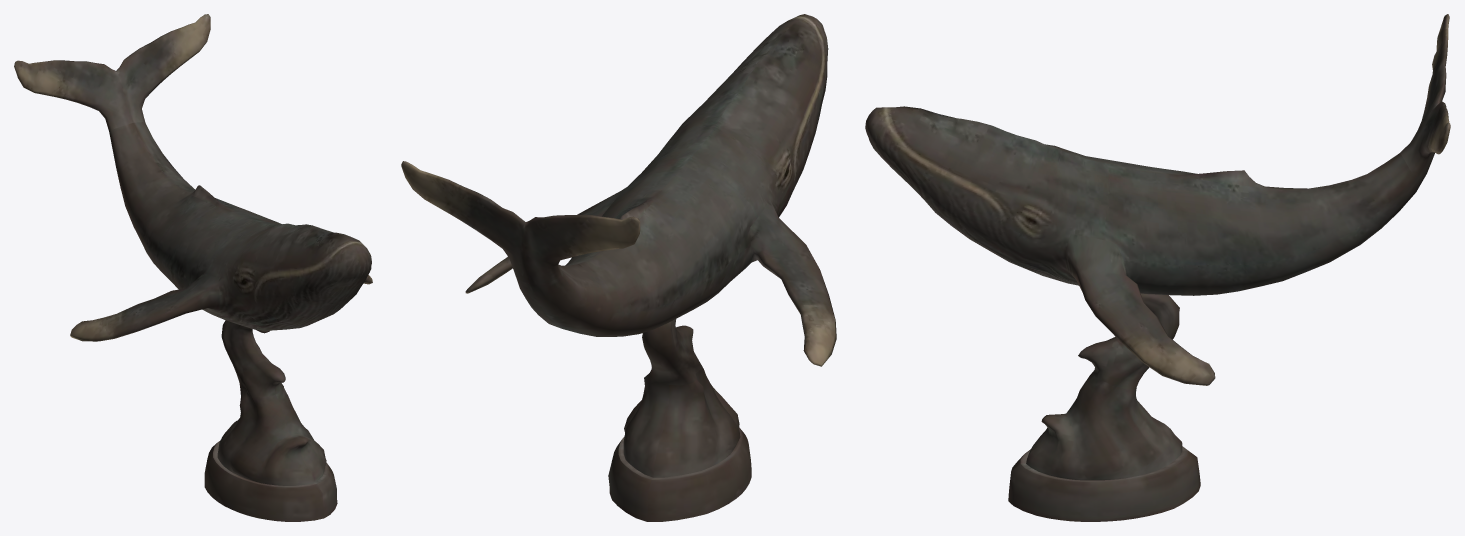
The model's file is bronze_whale_statue.glb.
3 views of the same model, side by side, from view 1: azimuth 30°, elevation 25°; view 2: azimuth 150°, elevation 25°; view 3: azimuth 270°, elevation 25° (orthographic). The views are drawn at different scales.
Parts seen in each view (by area): view 1: bronze_whale_statue; view 2: bronze_whale_statue; view 3: bronze_whale_statue.
Boxes of the visible parts, <box> form: bronze_whale_statue: <box>14,14,372,521</box>; bronze_whale_statue: <box>401,14,836,521</box>; bronze_whale_statue: <box>865,14,1450,521</box>.
Bounding box in the file's own units: 0.932 × 1.07 × 1.37.
1 material, 1 textured.
